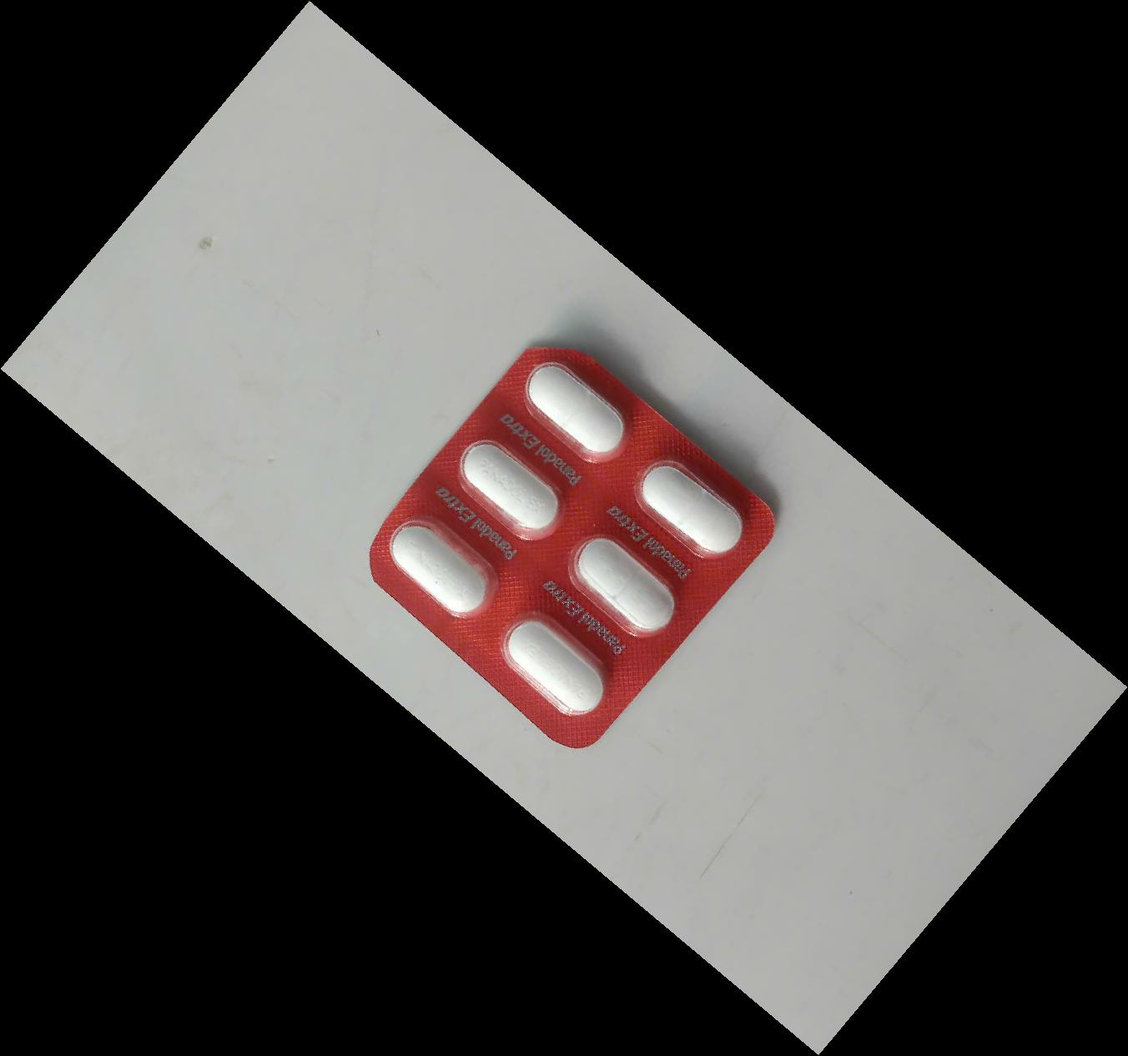Full: (369, 496, 514, 633), (621, 439, 766, 576), (552, 516, 696, 653), (486, 594, 631, 730), (439, 424, 583, 560), (504, 343, 648, 479)
